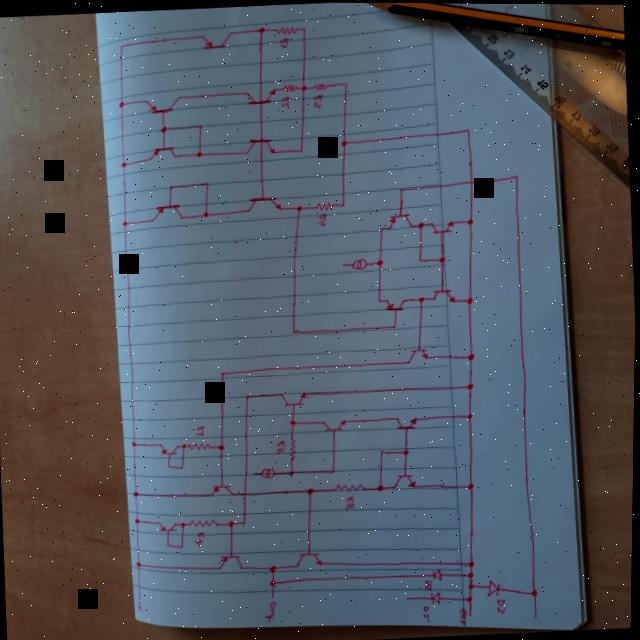crossover: (467, 176, 475, 184), (244, 490, 250, 496)
diode: (486, 576, 503, 596), (430, 589, 443, 604), (433, 568, 445, 581)
junction: (270, 563, 280, 573), (531, 586, 540, 596), (307, 485, 316, 494), (512, 170, 521, 179), (376, 481, 385, 490), (376, 257, 385, 266), (467, 593, 476, 602), (466, 294, 474, 303), (466, 216, 475, 224), (468, 351, 476, 360), (467, 481, 475, 489), (467, 410, 475, 418), (218, 442, 226, 450), (196, 149, 204, 157), (340, 137, 348, 145), (439, 255, 447, 263), (469, 558, 477, 566), (468, 381, 476, 389), (121, 218, 129, 226), (118, 41, 126, 49), (160, 124, 168, 132), (133, 489, 141, 497), (289, 468, 297, 476), (245, 391, 253, 399), (120, 160, 128, 168), (271, 578, 279, 586), (118, 99, 126, 107), (469, 580, 477, 588), (136, 559, 144, 567), (403, 446, 411, 454), (417, 219, 425, 227), (202, 209, 211, 216), (257, 25, 265, 32), (397, 184, 405, 191), (134, 516, 142, 523), (220, 370, 228, 377), (300, 23, 307, 31), (131, 439, 138, 446), (167, 182, 174, 189), (228, 519, 236, 525), (392, 322, 400, 328), (290, 418, 298, 424), (419, 295, 427, 301), (297, 204, 304, 210), (197, 122, 204, 128), (464, 127, 471, 133), (331, 466, 338, 472), (298, 146, 305, 152), (343, 79, 349, 86), (469, 570, 475, 577), (379, 224, 385, 231), (204, 180, 210, 186), (341, 200, 347, 206), (242, 518, 248, 524), (380, 447, 386, 453), (418, 255, 424, 261), (292, 328, 298, 334), (301, 84, 307, 90), (183, 521, 187, 527), (183, 442, 187, 448), (182, 544, 186, 548), (168, 542, 172, 546), (181, 465, 185, 469), (378, 297, 382, 301), (168, 464, 172, 467)
resistor: (332, 479, 367, 493), (190, 517, 221, 528), (273, 23, 298, 35), (288, 435, 298, 461), (315, 200, 336, 211), (312, 80, 331, 91), (189, 440, 212, 449), (279, 82, 299, 92)
terminal: (407, 594, 413, 600), (341, 261, 347, 267), (253, 471, 259, 477), (470, 610, 474, 616), (535, 613, 539, 619), (273, 593, 277, 598), (139, 595, 143, 599)
text: (265, 599, 280, 620), (496, 594, 509, 614), (277, 94, 294, 109), (459, 604, 472, 622), (315, 211, 330, 226), (311, 92, 326, 107), (276, 438, 287, 455), (345, 495, 358, 509), (196, 530, 207, 545), (277, 35, 292, 46), (195, 423, 207, 435), (423, 605, 432, 619), (138, 600, 146, 610), (426, 578, 434, 587)
transformer: (260, 465, 278, 478), (352, 257, 368, 270)
transistor: (241, 84, 279, 108), (199, 27, 235, 51), (150, 200, 186, 224), (145, 94, 182, 115), (245, 135, 276, 157), (248, 193, 282, 213), (280, 388, 311, 408), (219, 551, 247, 571), (148, 143, 178, 161), (296, 549, 325, 567), (430, 286, 457, 305), (393, 470, 420, 489), (386, 210, 414, 228), (430, 217, 458, 233), (323, 417, 352, 432), (211, 481, 236, 496), (397, 414, 422, 429), (408, 346, 430, 363), (160, 440, 180, 455), (385, 296, 406, 310), (160, 519, 181, 533)
